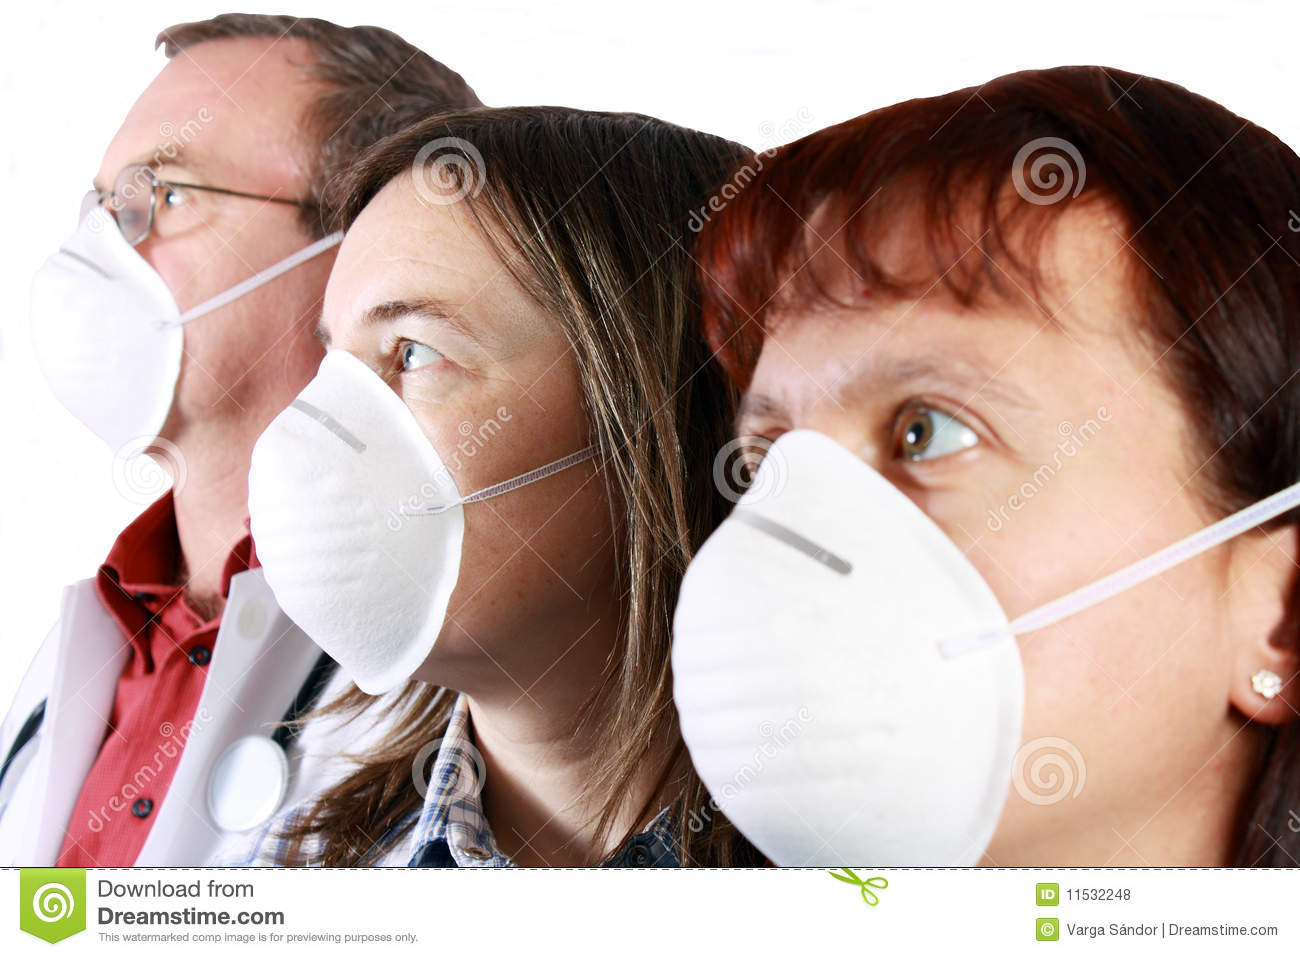mask: (628, 452, 1047, 845), (231, 352, 481, 667), (35, 214, 195, 441)
